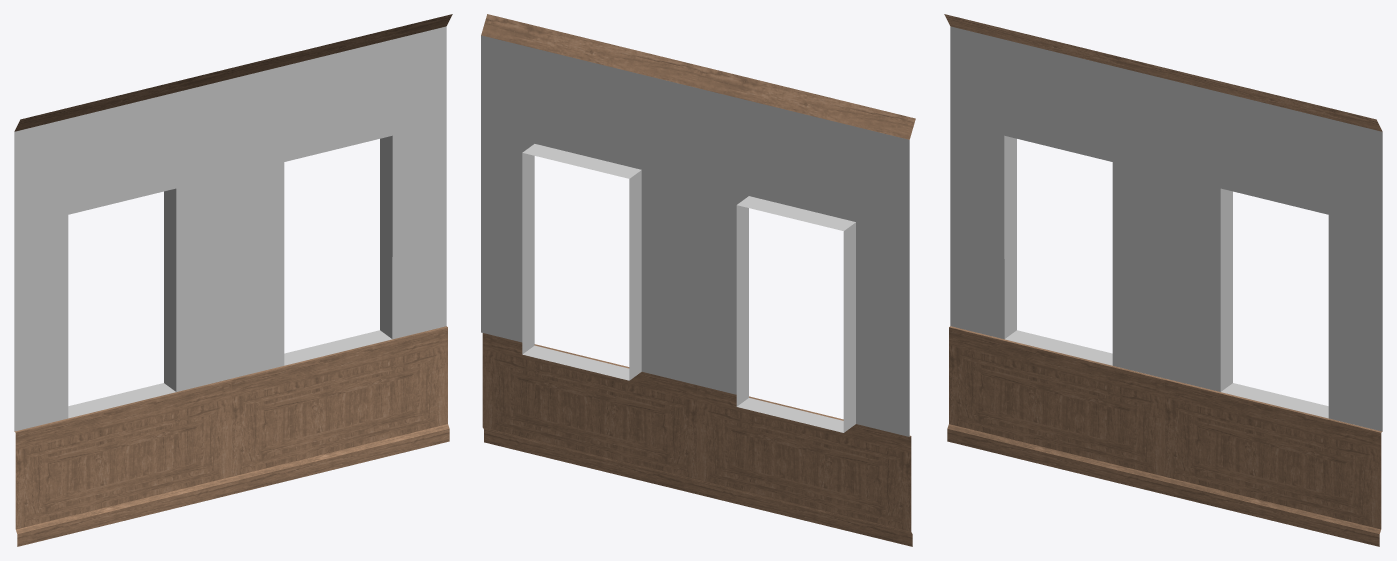
The model's file is WallInt2Window2A.fbx.
The picture shows the model from 3 angles, left to right: view 1: azimuth 30°, elevation 25°; view 2: azimuth 150°, elevation 25°; view 3: azimuth 330°, elevation 25°; orthographic projection.
Parts seen in each view (by area): view 1: WallInt2Window2A; view 2: WallInt2Window2A; view 3: WallInt2Window2A.
Boxes of the visible parts, x1,y1,x2,y2 form: WallInt2Window2A: (14, 14, 452, 546); WallInt2Window2A: (481, 14, 915, 546); WallInt2Window2A: (944, 14, 1382, 546).
Size of the model in its own units: 400 by 380 by 30.
